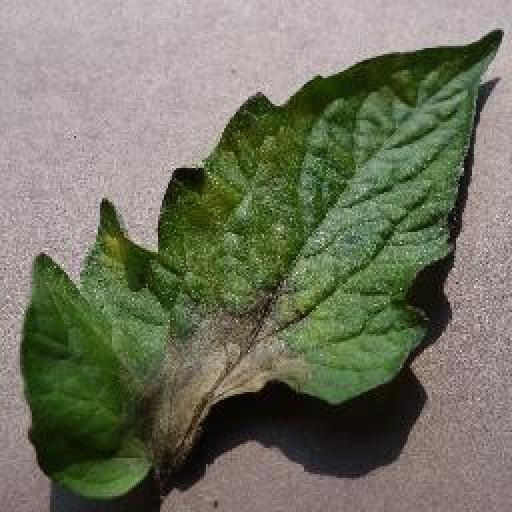Late Blight: (19, 28, 505, 500)
